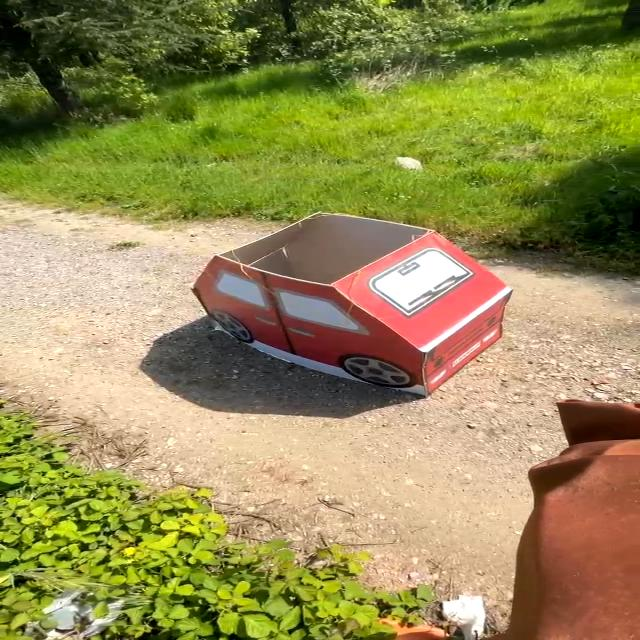red_car: (169, 210, 543, 404)
